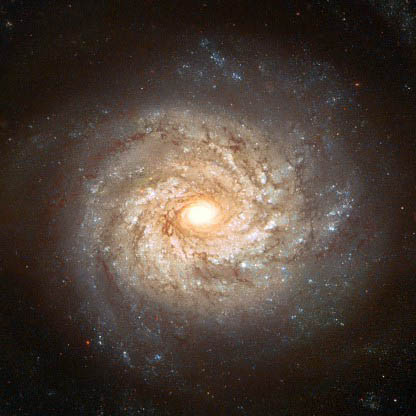NGC 3982: (25, 74, 384, 383)
